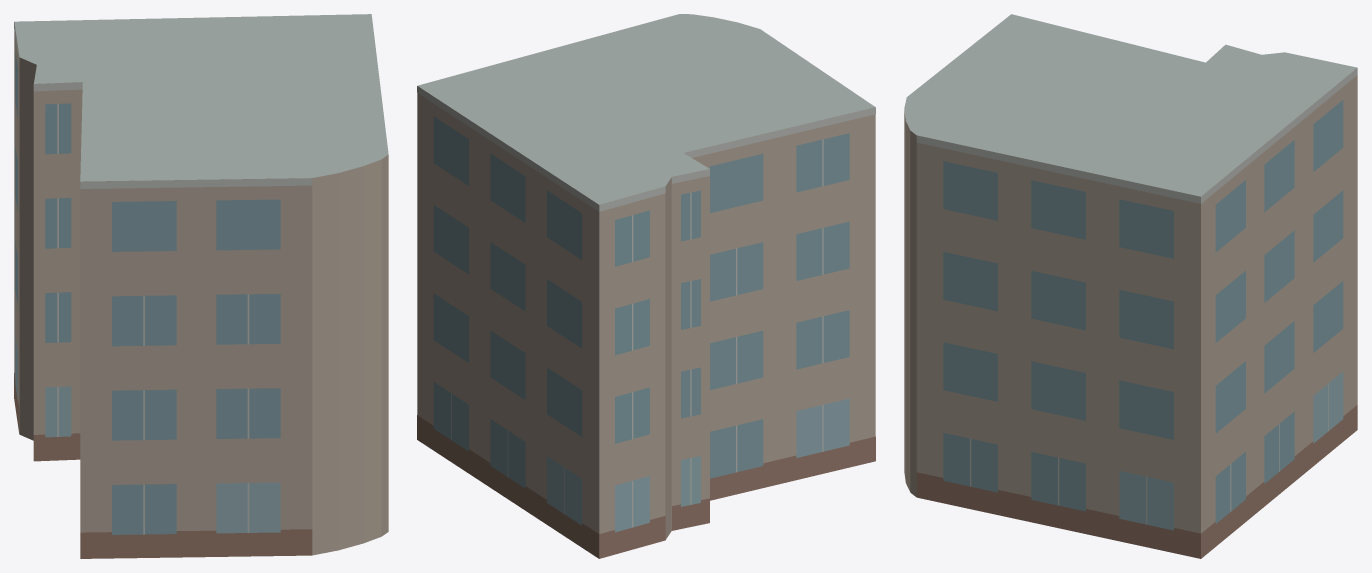
The model's file is survey-upis-32734748.glb.
3 views of the same model, side by side, from view 1: azimuth 30°, elevation 25°; view 2: azimuth 150°, elevation 25°; view 3: azimuth 270°, elevation 25° (orthographic). The views are drawn at different scales.
Parts seen in each view (by area): view 1: survey-upis-32734748.tmp; view 2: survey-upis-32734748.tmp; view 3: survey-upis-32734748.tmp.
Boxes of the visible parts, <box> form: survey-upis-32734748.tmp: <box>14,14,388,558</box>; survey-upis-32734748.tmp: <box>417,14,875,558</box>; survey-upis-32734748.tmp: <box>904,14,1357,558</box>.
Bounding box in the file's own units: 13.32 × 12.3 × 13.96.
